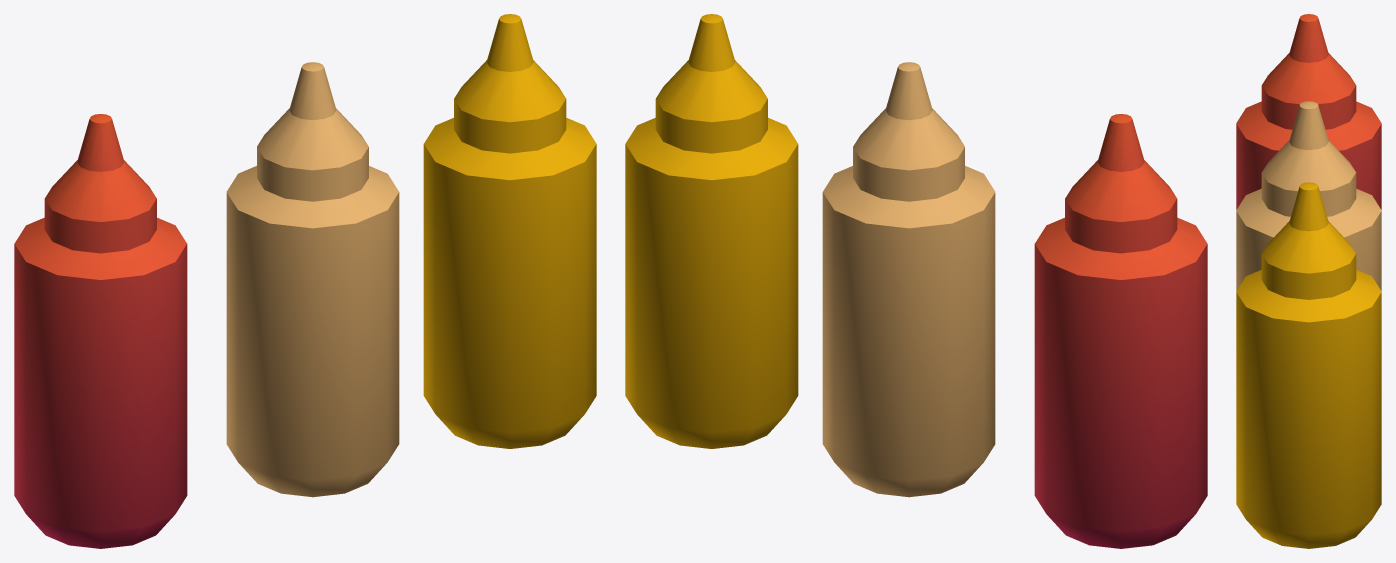
The model's file is soslar.fbx.
3 views of the same model, side by side, from view 1: azimuth 30°, elevation 25°; view 2: azimuth 150°, elevation 25°; view 3: azimuth 270°, elevation 25° (orthographic). The views are drawn at different scales.
Visible parts, largest first — view 1: keççap, keççap.002, keççap.001; view 2: keççap, keççap.002, keççap.001; view 3: keççap.002, keççap, keççap.001.
Boxes of the visible parts, <box> form: keççap: <box>14,114,187,548</box>; keççap.002: <box>423,14,596,448</box>; keççap.001: <box>226,62,399,497</box>; keççap: <box>1034,114,1207,548</box>; keççap.002: <box>625,14,798,448</box>; keççap.001: <box>822,62,995,497</box>; keççap.002: <box>1236,182,1381,548</box>; keççap: <box>1236,14,1381,209</box>; keççap.001: <box>1236,101,1381,290</box>.
Size of the model in its own units: 112 by 77.85 by 30.
3 materials, 1 textured.
